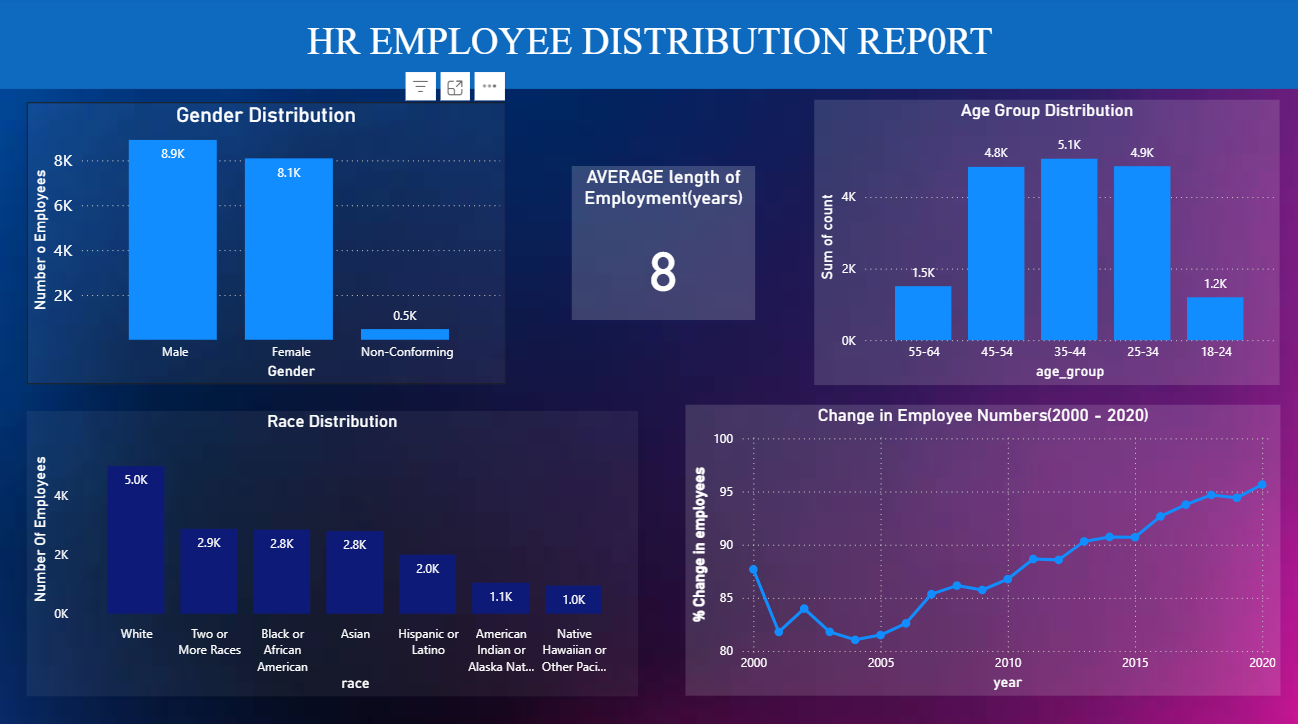

This screenshot's page, from the dashboard's own definition file:
{"tool":"powerbi","page":{"name":"Page 1","canvas":[1280,720],"ordinal":0},"visuals":[{"type":"textbox","box":[0,0,1280,91.4],"z":0},{"type":"card","title":"AVERAGE length of Employment(years)","fields":{"Values":["Sum(avg_length_employment.avg_length_employment)"]},"box":[562.9,167.1,180,151.4],"z":1000},{"type":"columnChart","title":"Gender Distribution","fields":{"Category":["gender.gender"],"Y":["Sum(gender.count)"]},"box":[28.6,104.3,470,277.1],"z":2000},{"type":"lineChart","title":"Change in Employee Numbers(2000 - 2020)","fields":{"Category":["year.year"],"Y":["Sum(year.net_change_percent)"]},"box":[674.3,401.4,584.3,285.7],"z":3000},{"type":"clusteredColumnChart","title":"Race Distribution","fields":{"Category":["race.race"],"Y":["Sum(race.count)"]},"box":[28.6,407.1,600,280],"z":4000},{"type":"columnChart","title":"Age Group Distribution","fields":{"Y":["Sum(age_group.count)"],"Category":["age_group.age_group"]},"box":[801.4,101.4,457.1,280],"z":5000}]}

Visuals, with their boxes in screenshot pixels (x1, y1, x2, y2), scaled from the page's 1280x720 canvas onto the 1298x724 screenshot:
textbox: [0, 0, 1297, 92]
"AVERAGE length of Employment(years)" card: [571, 168, 753, 320]
"Gender Distribution" columnChart: [29, 105, 506, 384]
"Change in Employee Numbers(2000 - 2020)" lineChart: [684, 404, 1276, 691]
"Race Distribution" clusteredColumnChart: [29, 409, 637, 691]
"Age Group Distribution" columnChart: [813, 102, 1276, 384]
